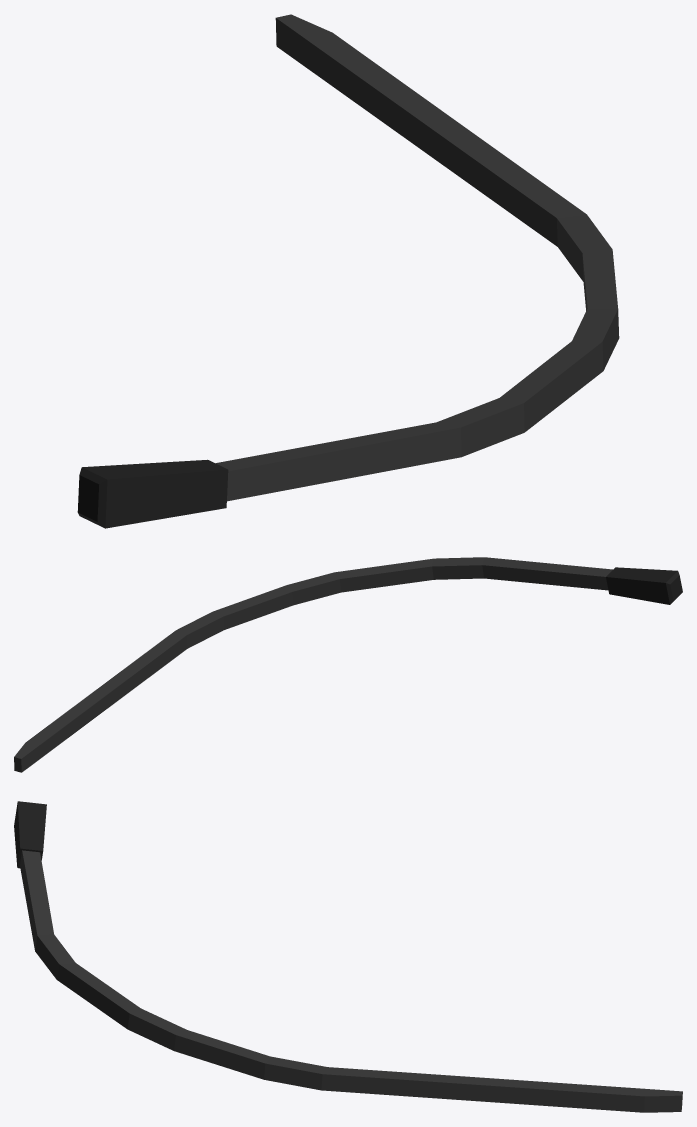
File: Headset_Mic_1.obj
The picture shows the model from 3 angles, top to bottom: view 1: azimuth 30°, elevation 25°; view 2: azimuth 150°, elevation 25°; view 3: azimuth 270°, elevation 25°; orthographic projection. The views are drawn at different scales.
Parts seen in each view (by area): view 1: Headset_Mic_1; view 2: Headset_Mic_1; view 3: Headset_Mic_1.
Boxes of the visible parts, box(x1,y1,x2,y2) form: Headset_Mic_1: box(77, 14, 619, 528); Headset_Mic_1: box(14, 557, 682, 772); Headset_Mic_1: box(14, 801, 682, 1112).
Bounding box in the file's own units: 0.1528 × 0.0313 × 0.1965.
